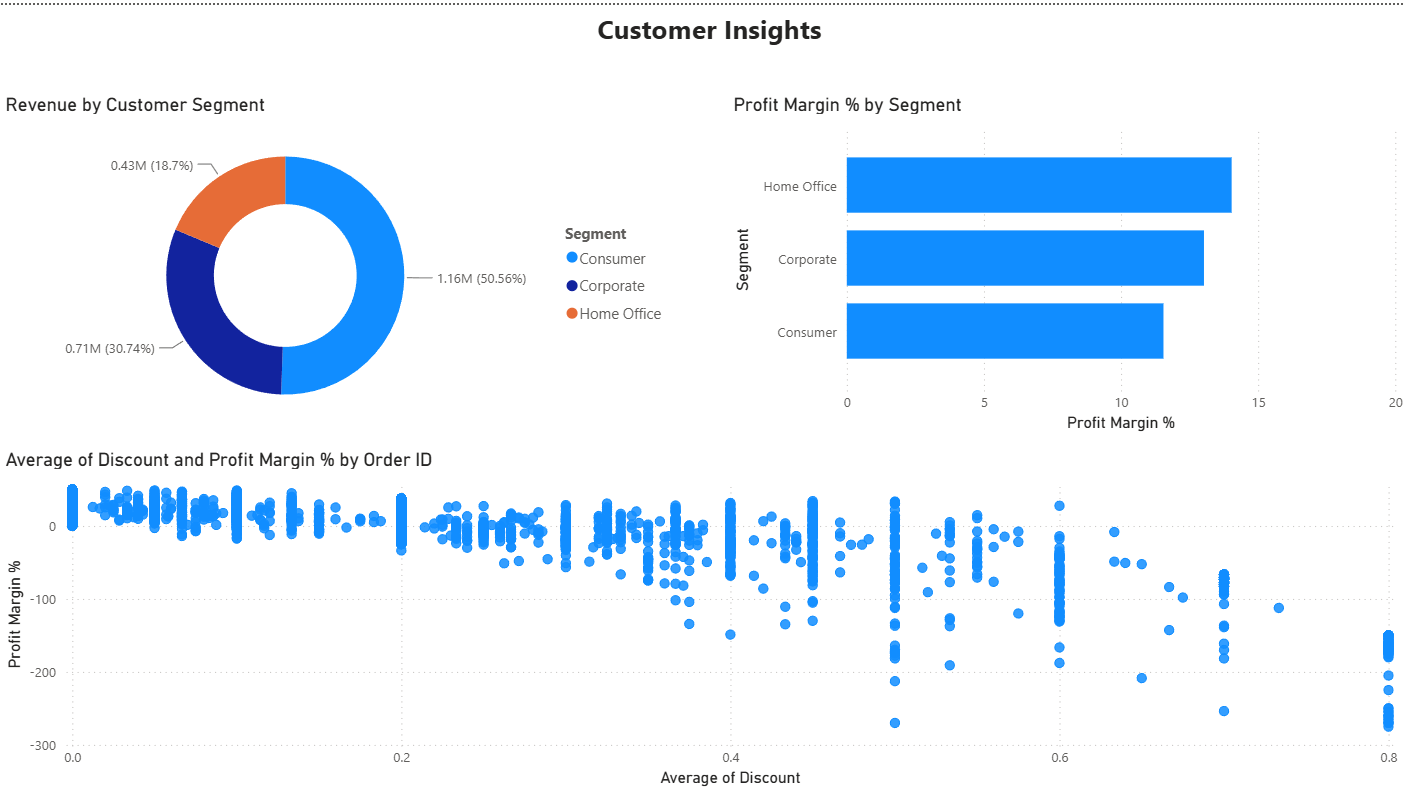

The dashboard page shown, as its layout file describes it:
{"tool":"powerbi","page":{"name":"Customer Insights","canvas":[1280,720],"ordinal":3},"visuals":[{"type":"textbox","box":[10,0,1270,58.6],"z":0},{"type":"donutChart","title":"Revenue by Customer Segment","fields":{"Category":["superstore.Segment"],"Y":["superstore.Total Revenue"]},"box":[0,80,615.7,312.9],"z":1000},{"type":"clusteredBarChart","fields":{"Category":["superstore.Segment"],"Y":["superstore.Profit Margin %"]},"box":[661.4,80,618.6,312.9],"z":2000},{"type":"scatterChart","fields":{"Category":["superstore.Order ID"],"X":["Avg(superstore.Discount)"],"Y":["superstore.Profit Margin %"]},"box":[0,402.9,1280,312.9],"z":3000}]}

Visuals, with their boxes in screenshot pixels (x1, y1, x2, y2), scaled from the page's 1280x720 canvas onto the 1405x796 screenshot:
textbox: {"x1": 11, "y1": 0, "x2": 1404, "y2": 65}
"Revenue by Customer Segment" donutChart: {"x1": 0, "y1": 88, "x2": 676, "y2": 434}
clusteredBarChart - superstore.Segment x superstore.Profit Margin %: {"x1": 726, "y1": 88, "x2": 1404, "y2": 434}
scatterChart - superstore.Order ID x Avg(superstore.Discount): {"x1": 0, "y1": 445, "x2": 1404, "y2": 791}
